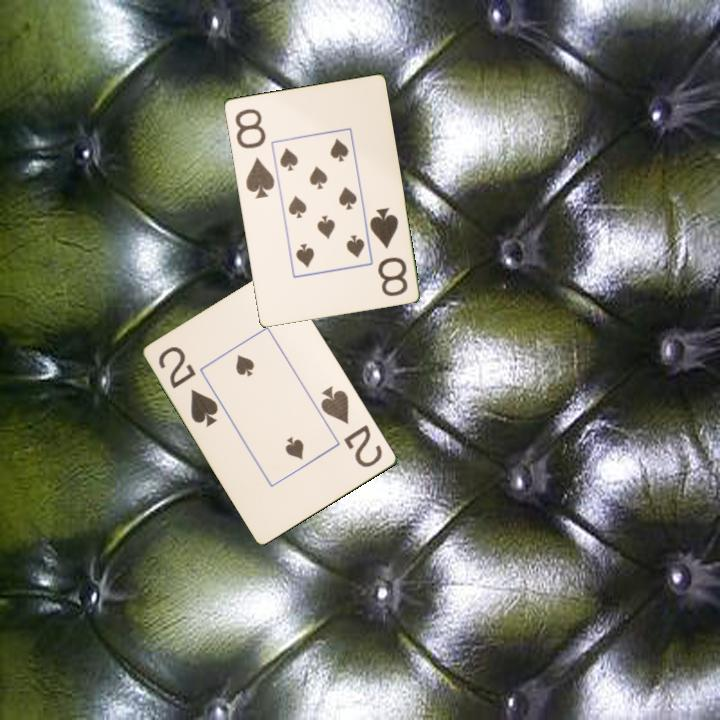2s: (317, 383, 386, 471), (155, 343, 222, 430)
8s: (231, 105, 277, 201), (366, 204, 410, 299)
